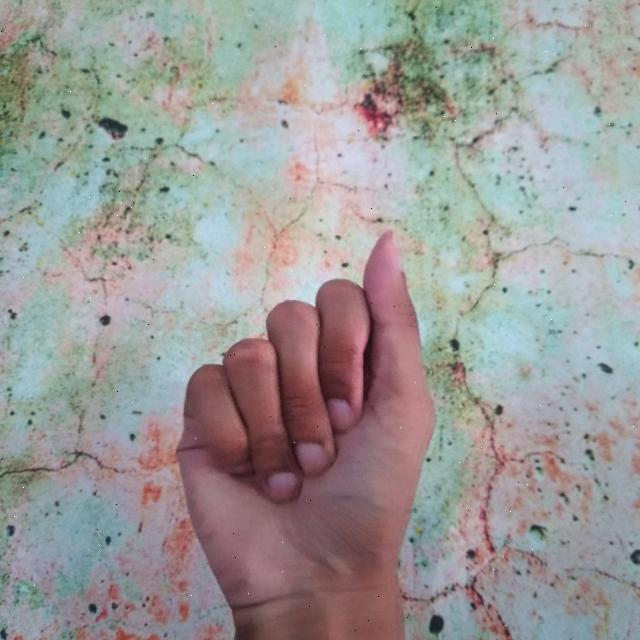A: (166, 234, 446, 640)
